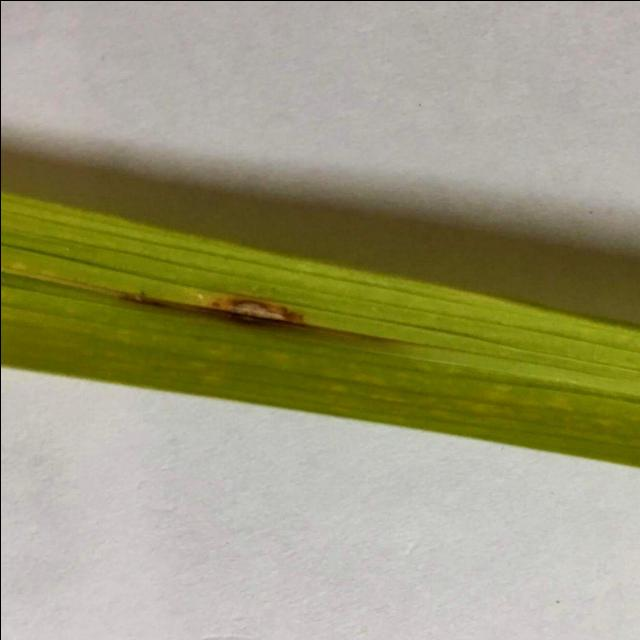Leaf_Blast: (168, 267, 342, 400)
